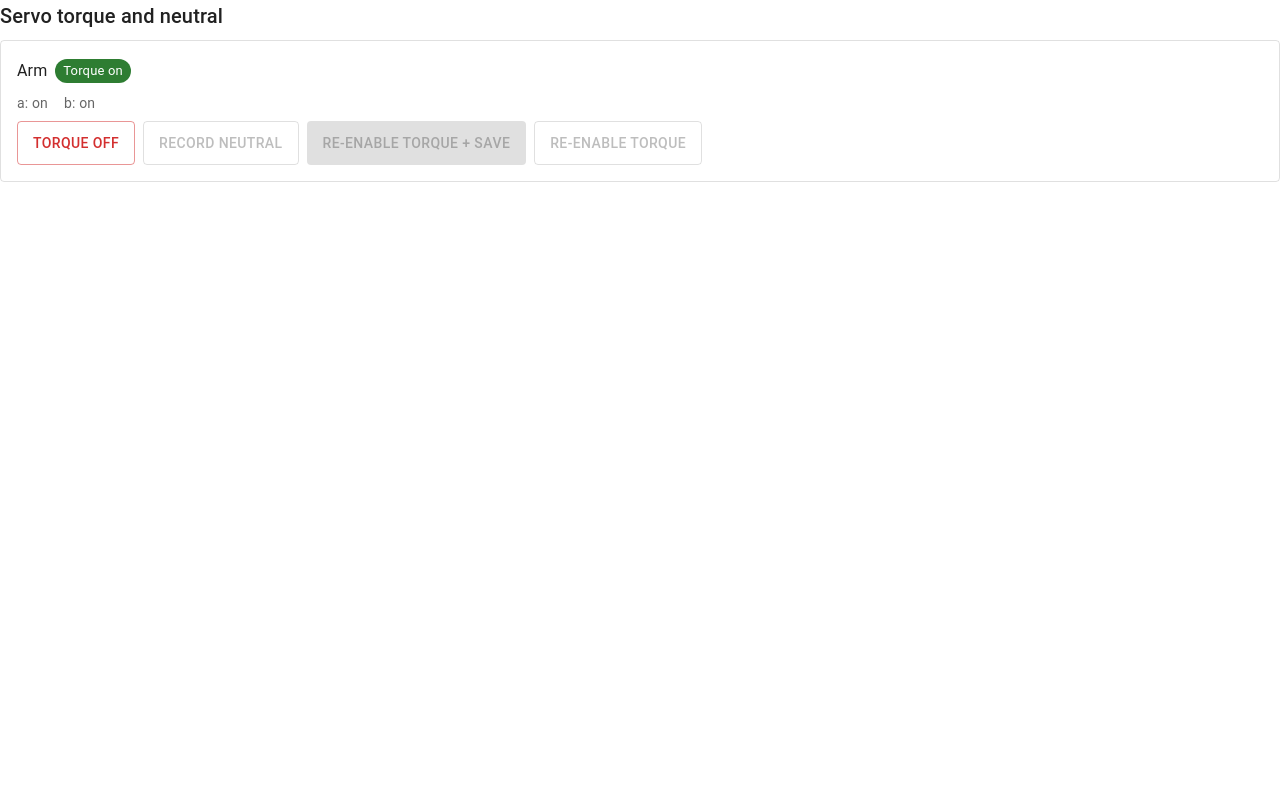
Test: ServoNeutral › Torque off on arm confirms with the exact text then releases
The image size is (1280, 800).
Expected: the element "Arm" is shown, [0, 40, 1279, 182]
Step 1. Click the button "Torque off" → click(76, 143), box [17, 121, 135, 165]
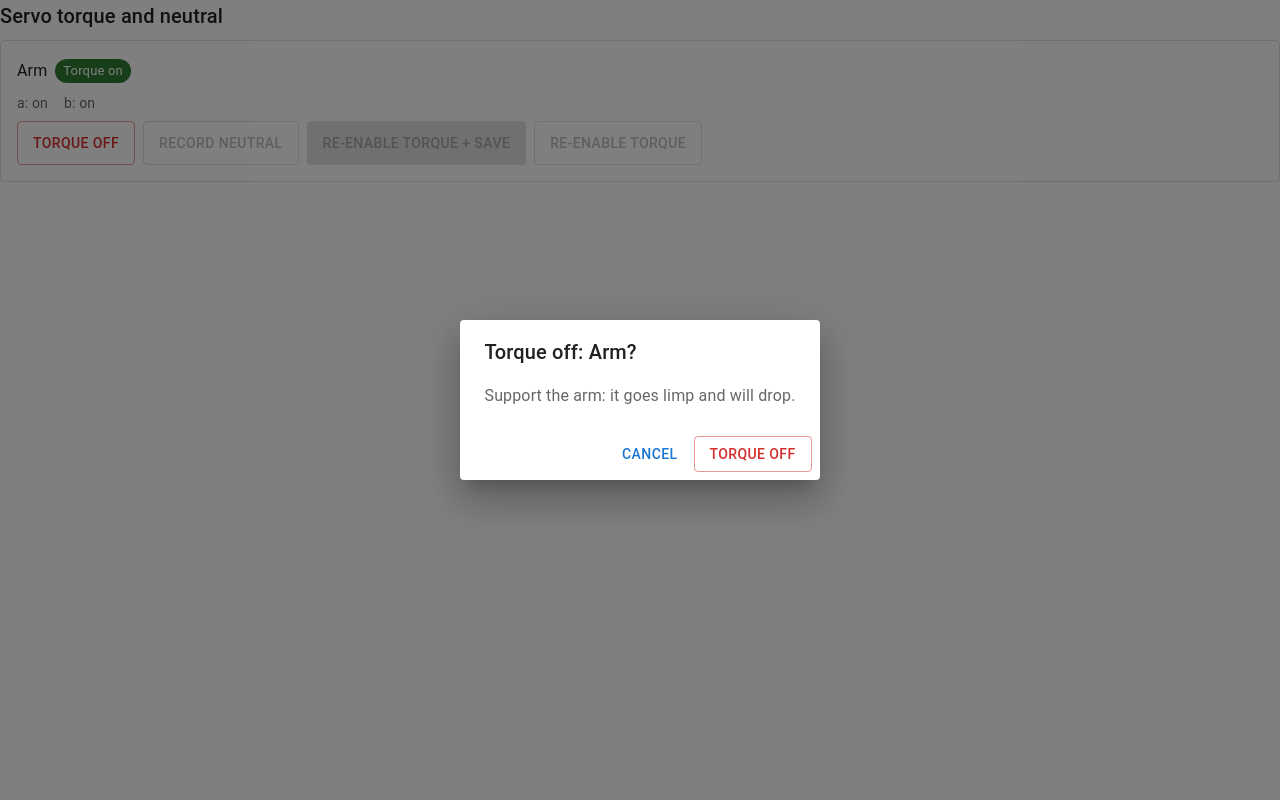
Result: the text "Support the arm: it goes limp and will drop." is shown at [484, 384, 796, 408]
